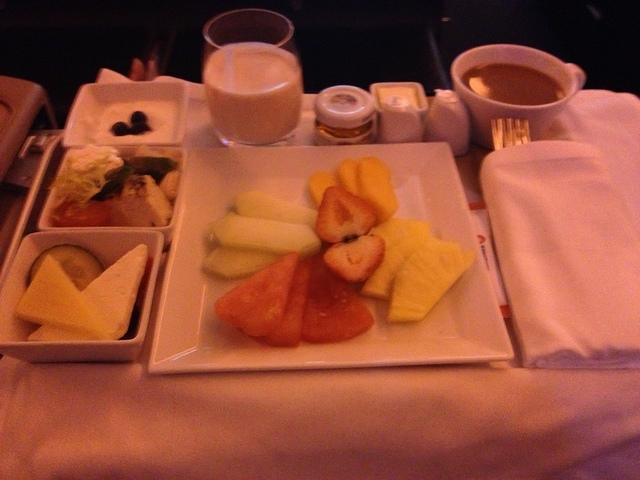cucumber: (29, 244, 104, 292)
pineapple: (386, 240, 476, 324), (362, 236, 438, 303), (368, 218, 432, 251)
strawberry: (316, 186, 377, 244), (322, 234, 386, 286)
watermelon: (235, 256, 313, 347), (214, 252, 298, 336), (301, 254, 376, 342)
